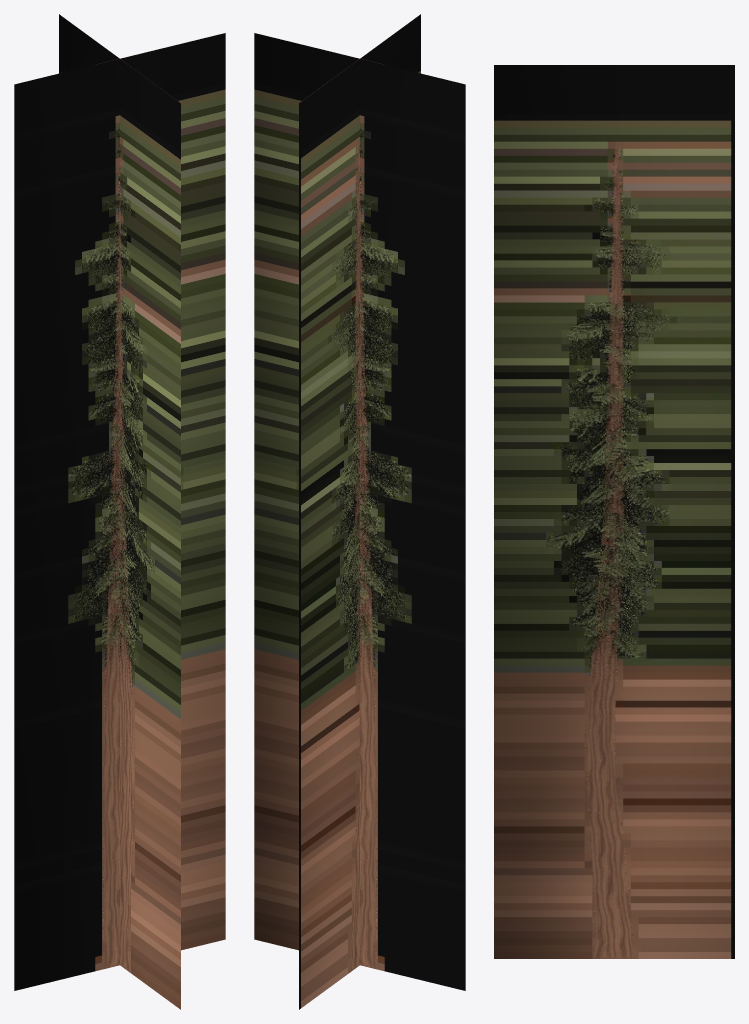
Rendered from rwdf.glb.
The picture shows the model from 3 angles, left to right: view 1: azimuth 30°, elevation 25°; view 2: azimuth 150°, elevation 25°; view 3: azimuth 270°, elevation 25°; orthographic projection.
Visible parts, largest first — view 1: rwd_lod1; view 2: rwd_lod1; view 3: rwd_lod1.
Boxes of the visible parts, x1,y1,x2,y2 form: rwd_lod1: (14,14,225,1009); rwd_lod1: (254,14,465,1009); rwd_lod1: (494,65,734,958).
Size of the model in its own units: 8.95 by 36.68 by 8.95.
Materials: 1 (1 with a texture image).
